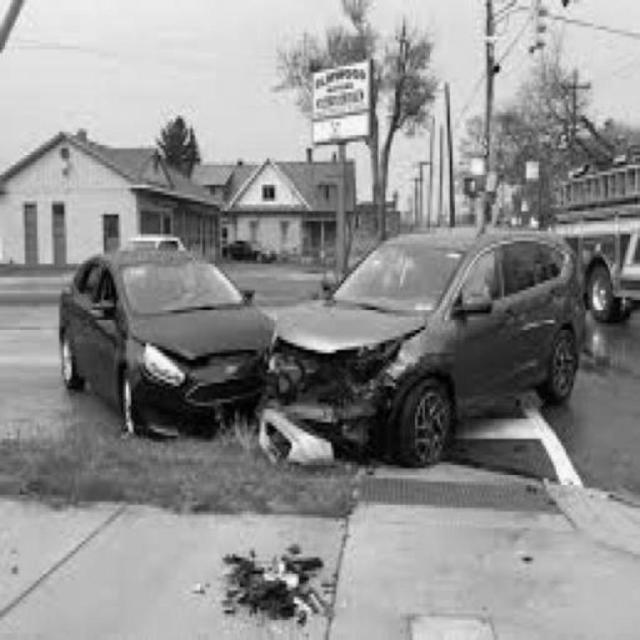accident: (59, 230, 581, 454)
